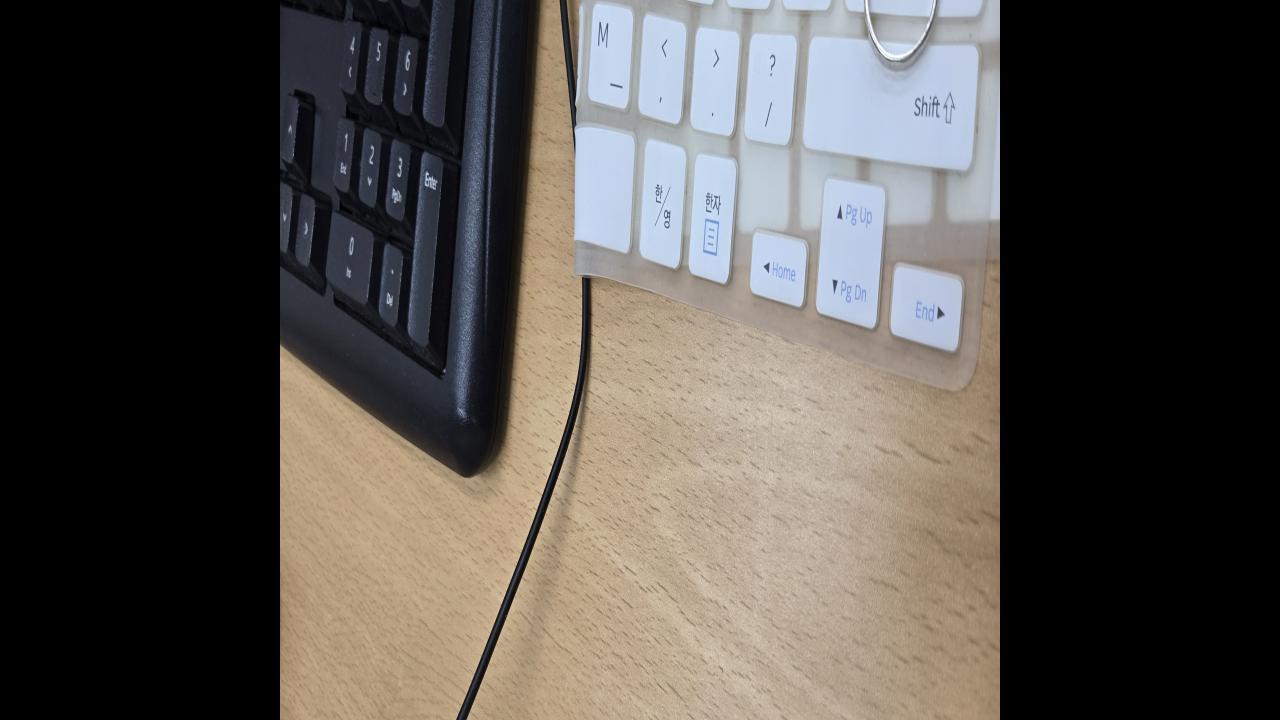ring: (861, 0, 941, 75)
